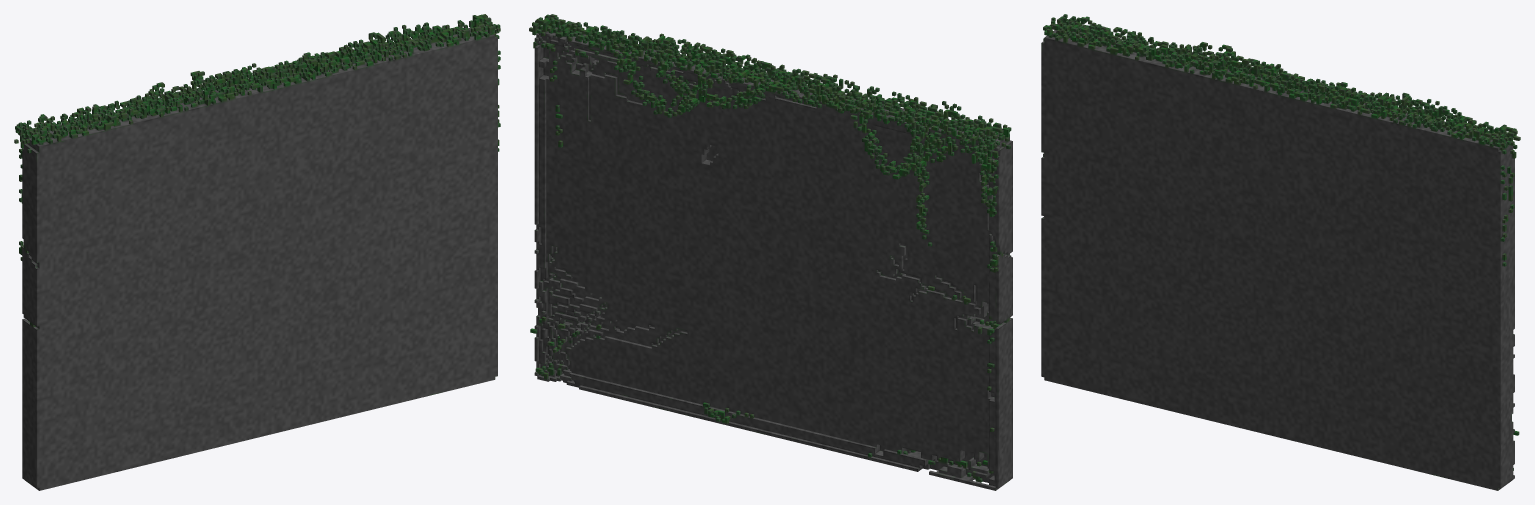
3 views of the same model, side by side, from view 1: azimuth 30°, elevation 25°; view 2: azimuth 150°, elevation 25°; view 3: azimuth 330°, elevation 25° (orthographic).
Parts seen in each view (by area): view 1: ui; view 2: ui; view 3: ui.
Part boxes in pixels (x1,y1,x2,y2): ui: (14,14,500,490); ui: (529,14,1012,490); ui: (1041,14,1520,490).
Size of the model in its own units: 170 by 127 by 17.
